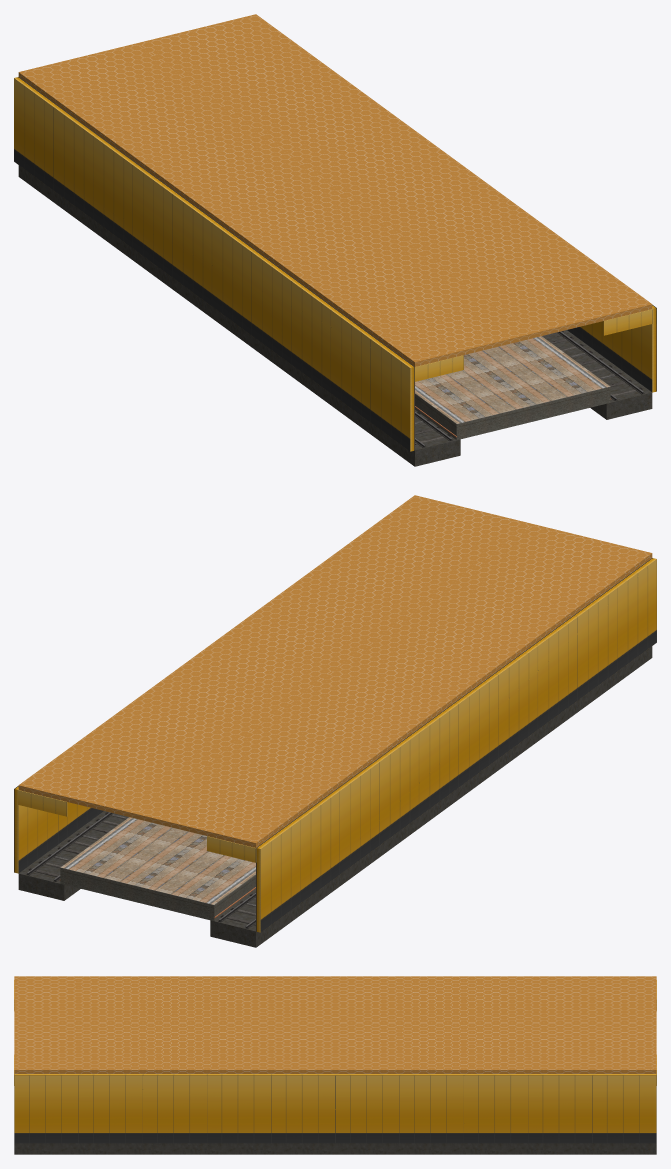
Rendered from Subway05.FBX.
3 views of the same model, one above another, from view 1: azimuth 30°, elevation 25°; view 2: azimuth 150°, elevation 25°; view 3: azimuth 270°, elevation 25° (orthographic). The views are drawn at different scales.
Parts seen in each view (by area): view 1: Subway05Ceiling01, Subway05Side01a, Subway05Floor01, Subway05Railfloor, Subway05Side01Part, Subway05Railway, Subway05Floor03; view 2: Subway05Ceiling01, Subway05Side01a, Subway05Floor01, Subway05Railfloor, Subway05Side01Part, Subway05Railway, Subway05Floor03; view 3: Subway05Ceiling01, Subway05Side01a, Subway05Railfloor.
Boxes of the visible parts, x1=… form: Subway05Ceiling01: x1=18, y1=14, x2=652, y2=366; Subway05Side01a: x1=14, y1=77, x2=656, y2=451; Subway05Floor01: x1=415, y1=336, x2=610, y2=439; Subway05Railfloor: x1=18, y1=165, x2=652, y2=466; Subway05Side01Part: x1=414, y1=309, x2=652, y2=381; Subway05Railway: x1=415, y1=331, x2=644, y2=447; Subway05Floor03: x1=415, y1=336, x2=607, y2=423; Subway05Ceiling01: x1=18, y1=495, x2=652, y2=847; Subway05Side01a: x1=14, y1=558, x2=656, y2=932; Subway05Floor01: x1=60, y1=817, x2=255, y2=920; Subway05Railfloor: x1=18, y1=646, x2=652, y2=947; Subway05Side01Part: x1=18, y1=790, x2=256, y2=862; Subway05Railway: x1=26, y1=812, x2=255, y2=928; Subway05Floor03: x1=63, y1=817, x2=255, y2=904; Subway05Ceiling01: x1=14, y1=976, x2=656, y2=1073; Subway05Side01a: x1=14, y1=1074, x2=656, y2=1143; Subway05Railfloor: x1=14, y1=1143, x2=656, y2=1154.
Bounding box in the file's own units: 26950 × 10920 × 75107.
